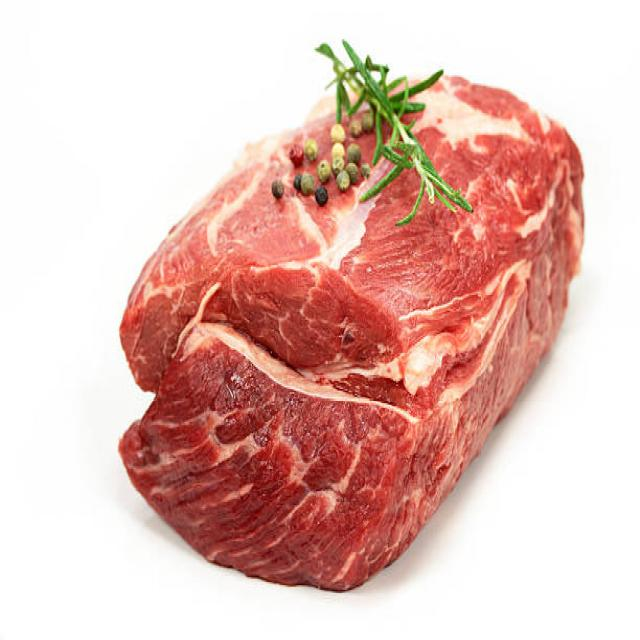beef: (120, 71, 586, 590)
